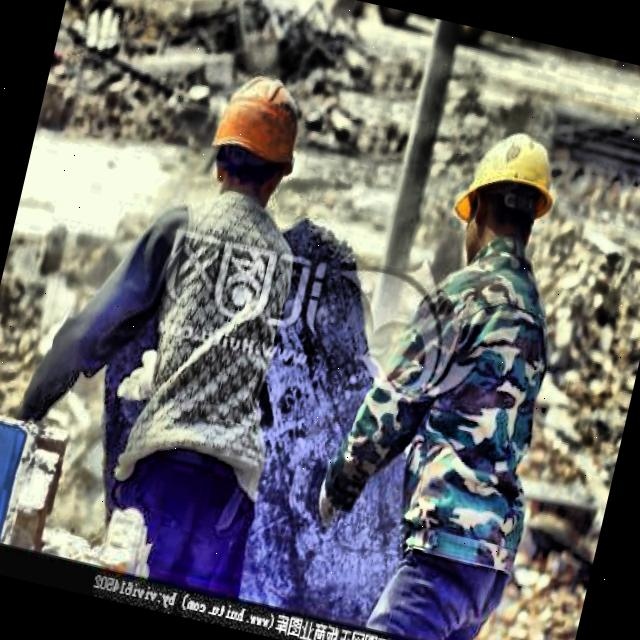helmet: (431, 109, 578, 292), (183, 56, 324, 230)
